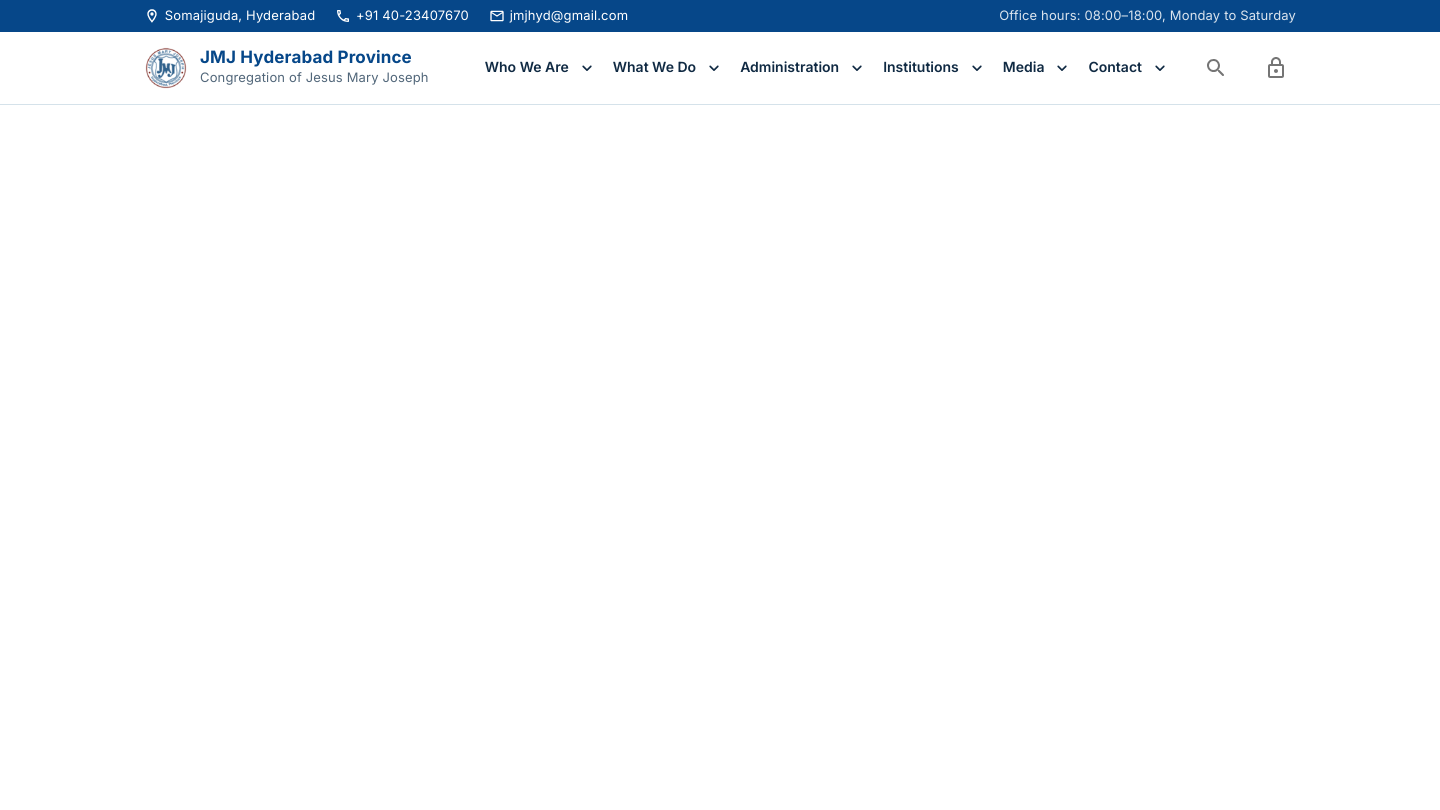
Test: SiteHeader › opens the search dialog from the toolbar button
Click the button named "open search" at (1216, 68), box [1196,48,1236,88]
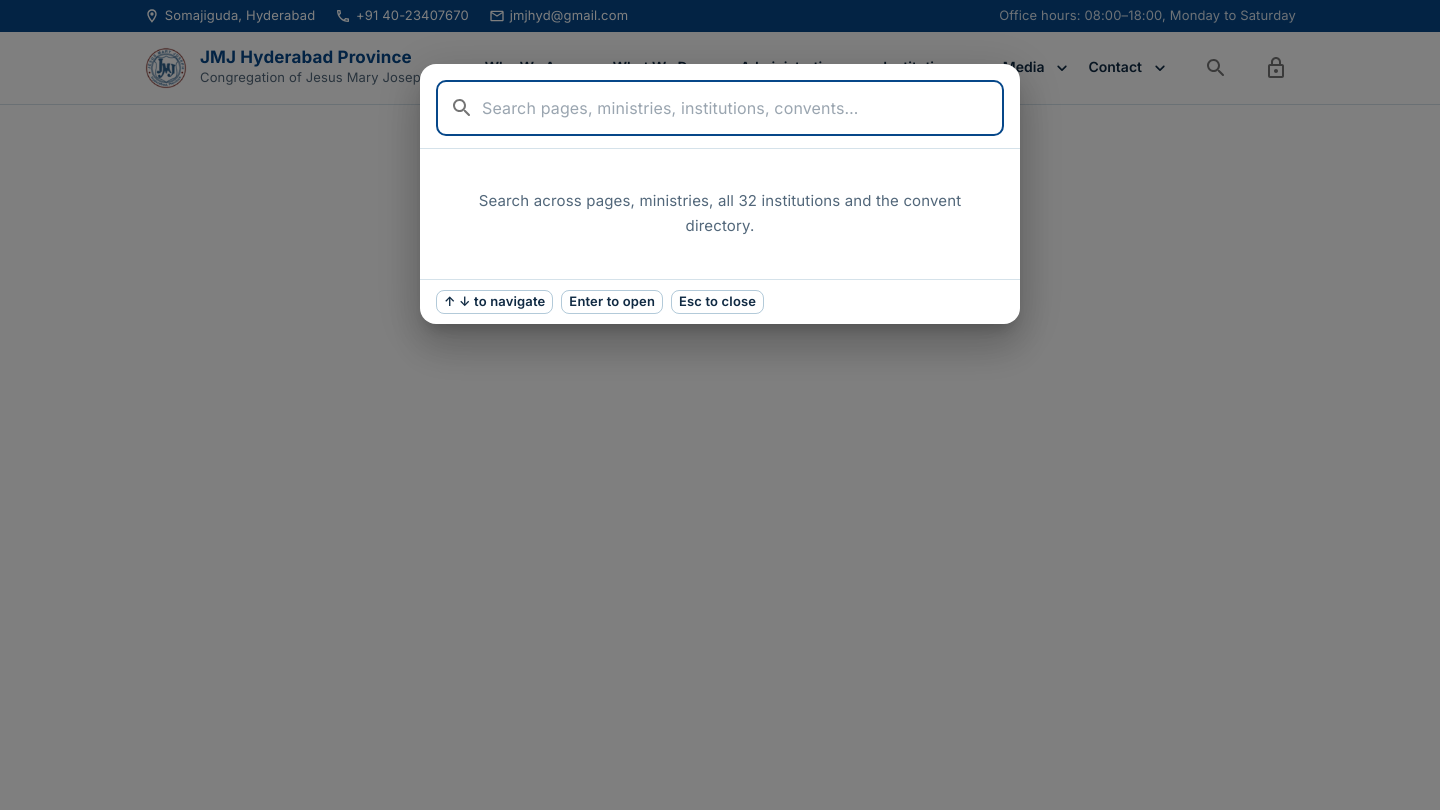
Result: the field named "search this website" is shown at [482,80,1004,136]
